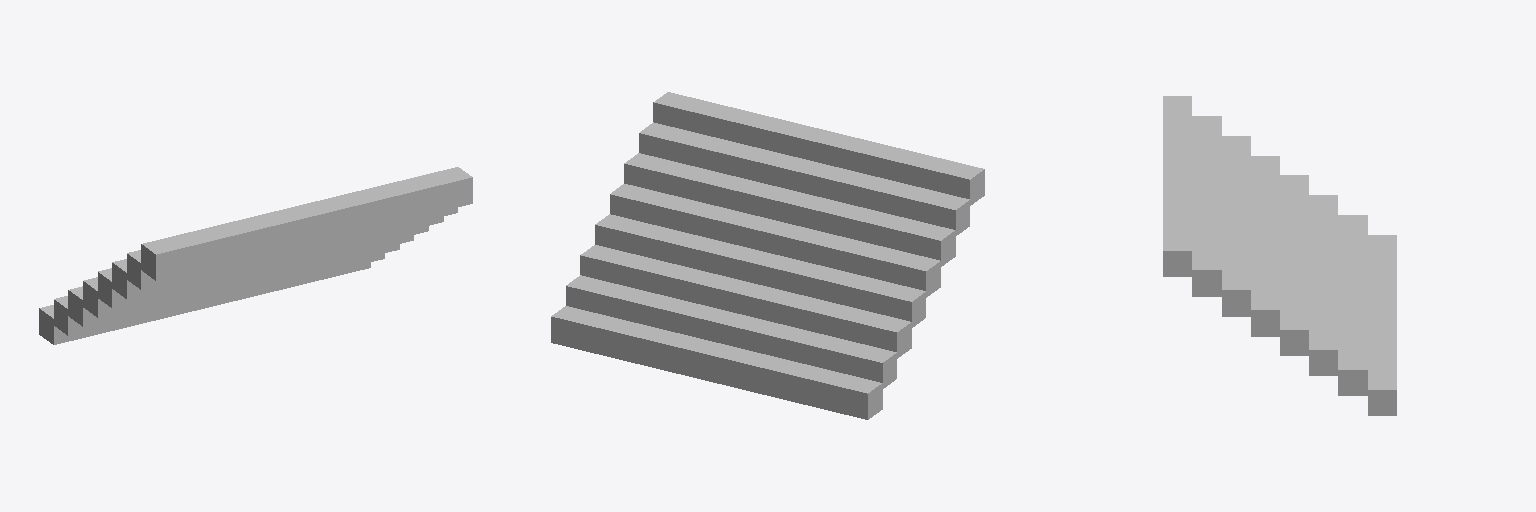
File: stairs_generic.obj
The picture shows the model from 3 angles: view 1: azimuth 30°, elevation 25°; view 2: azimuth 150°, elevation 25°; view 3: azimuth 270°, elevation 25°; orthographic projection.
Parts seen in each view (by area): view 1: Cube.007; view 2: Cube.007; view 3: Cube.007.
Boxes of the visible parts, <box> form: Cube.007: <box>39,167,472,344</box>; Cube.007: <box>551,92,984,419</box>; Cube.007: <box>1163,96,1396,415</box>.
Size of the model in its own units: 1.79 by 0.8923 by 1.14.